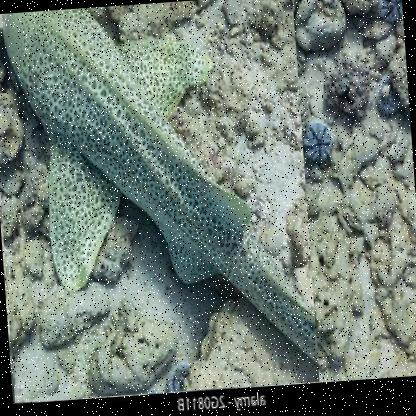zebra_shark: (0, 0, 320, 405)
